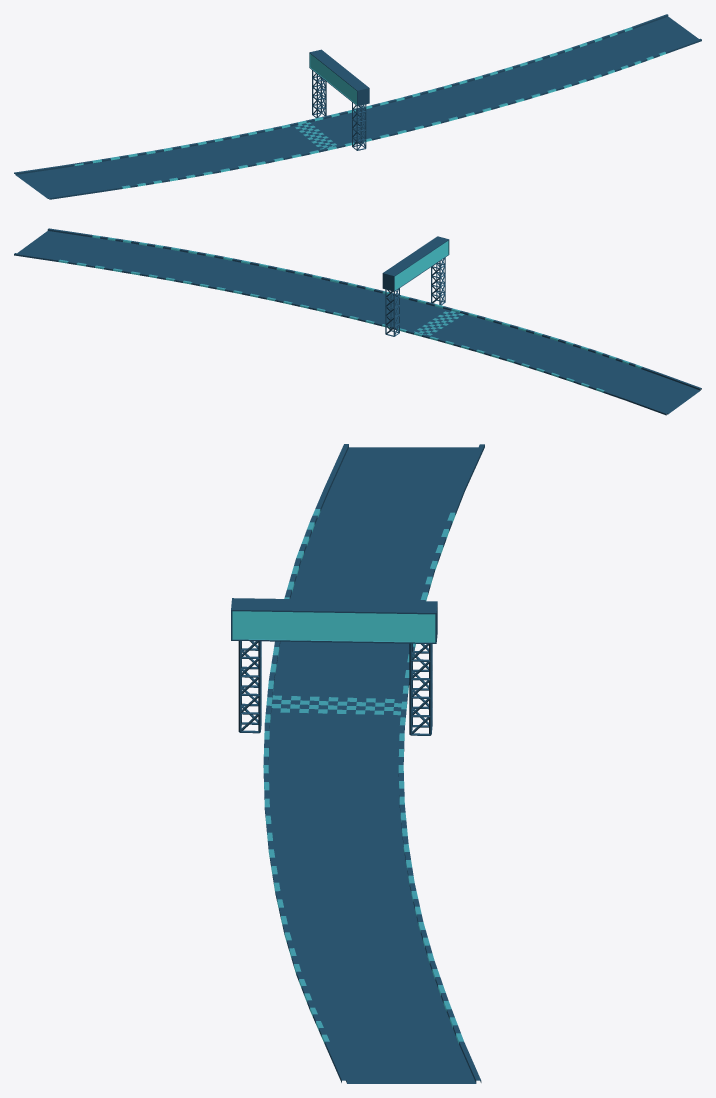
The model's file is Race_LV1.FBX.
3 renders of one model, top to bottom at view 1: azimuth 30°, elevation 25°; view 2: azimuth 150°, elevation 25°; view 3: azimuth 270°, elevation 25°, orthographic. The views are drawn at different scales.
Visible parts, largest first — view 1: Race; view 2: Race; view 3: Race.
Part boxes in pixels (x1=…): Race: x1=14, y1=14, x2=701, y2=199; Race: x1=14, y1=228, x2=701, y2=415; Race: x1=231, y1=444, x2=484, y2=1083.
Bounding box in the file's own units: 250 × 22.78 × 42.09.
